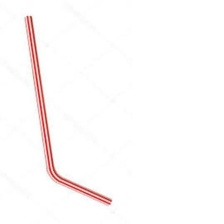drinking_straw: (20, 12, 117, 208)
